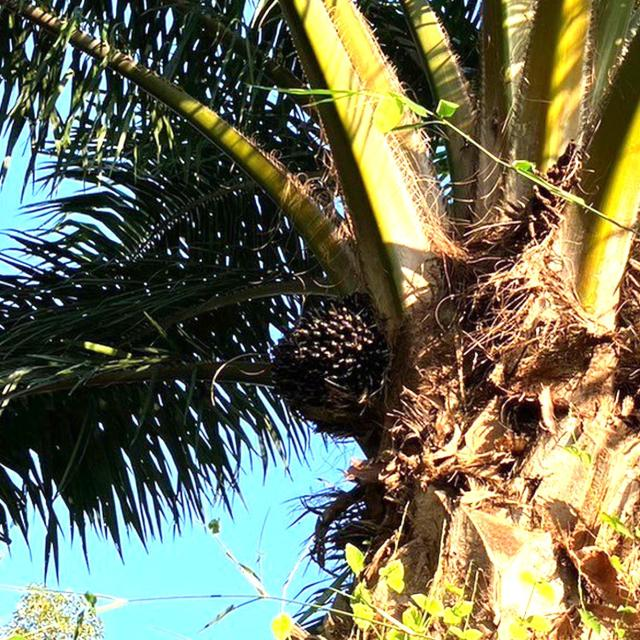almost: (261, 292, 389, 454)
